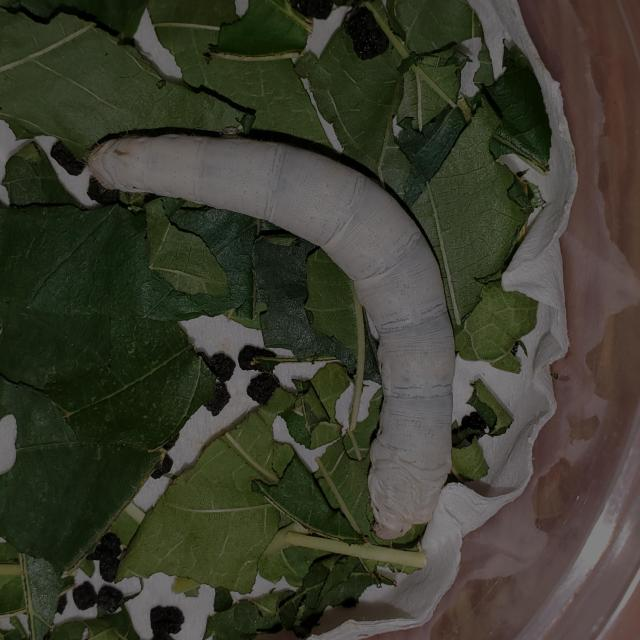Healthy: (64, 110, 470, 560)
